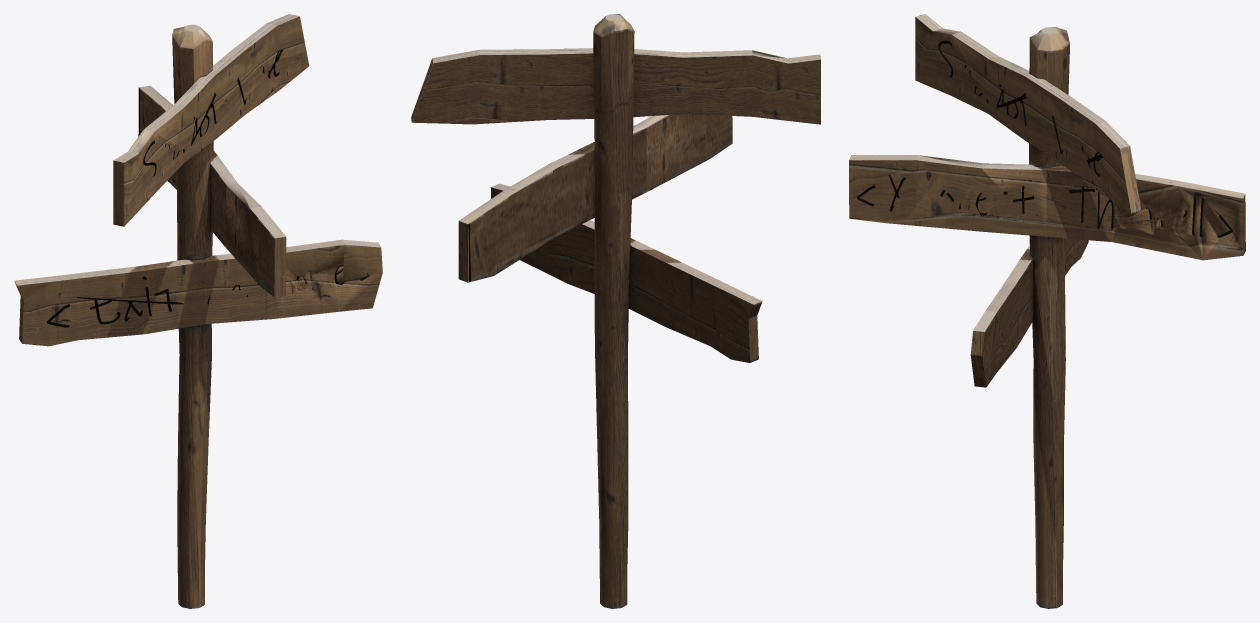
The model's file is roadsign.fbx.
3 renders of one model, left to right at view 1: azimuth 30°, elevation 25°; view 2: azimuth 150°, elevation 25°; view 3: azimuth 270°, elevation 25°, orthographic. The views are drawn at different scales.
Visible parts, largest first — view 1: SignPost_3_plank_angled; view 2: SignPost_3_plank_angled; view 3: SignPost_3_plank_angled.
Boxes of the visible parts, box(x1,y1,x2,y2) form: SignPost_3_plank_angled: box(14, 14, 382, 608); SignPost_3_plank_angled: box(411, 14, 820, 608); SignPost_3_plank_angled: box(849, 14, 1245, 608).
Size of the model in its own units: 183 by 315 by 198.
Materials: 1 (1 with a texture image).
